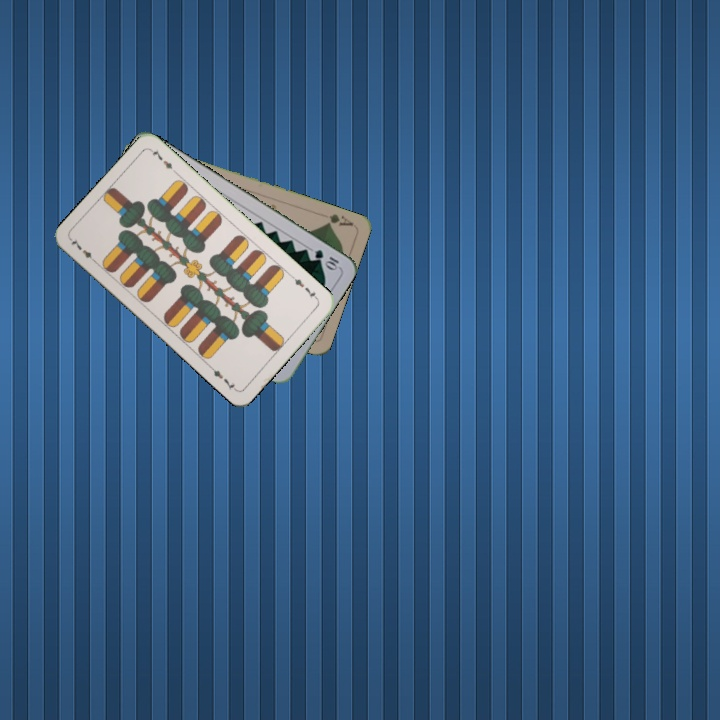E7: (66, 234, 100, 266), (288, 272, 321, 303)
G10: (311, 245, 341, 272)
GA: (322, 210, 356, 229)
